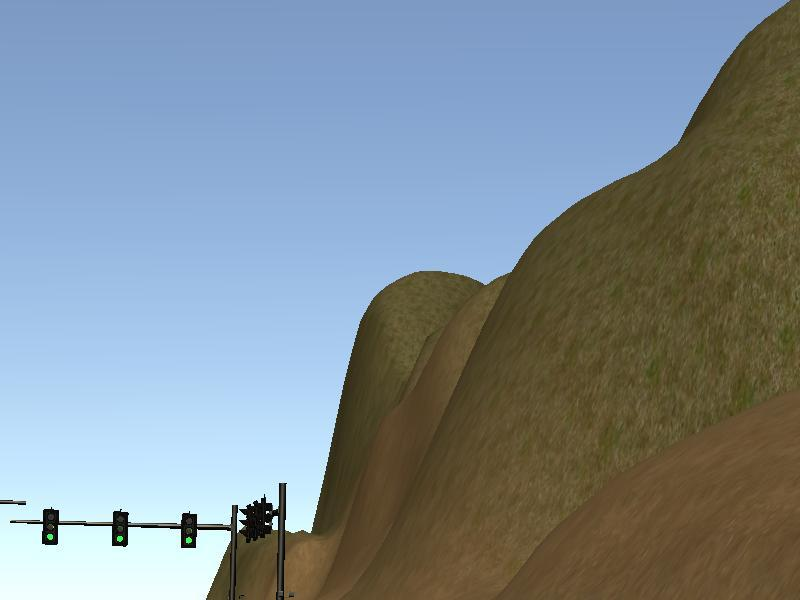Green: (41, 509, 59, 545), (112, 510, 129, 547), (180, 514, 197, 549)
